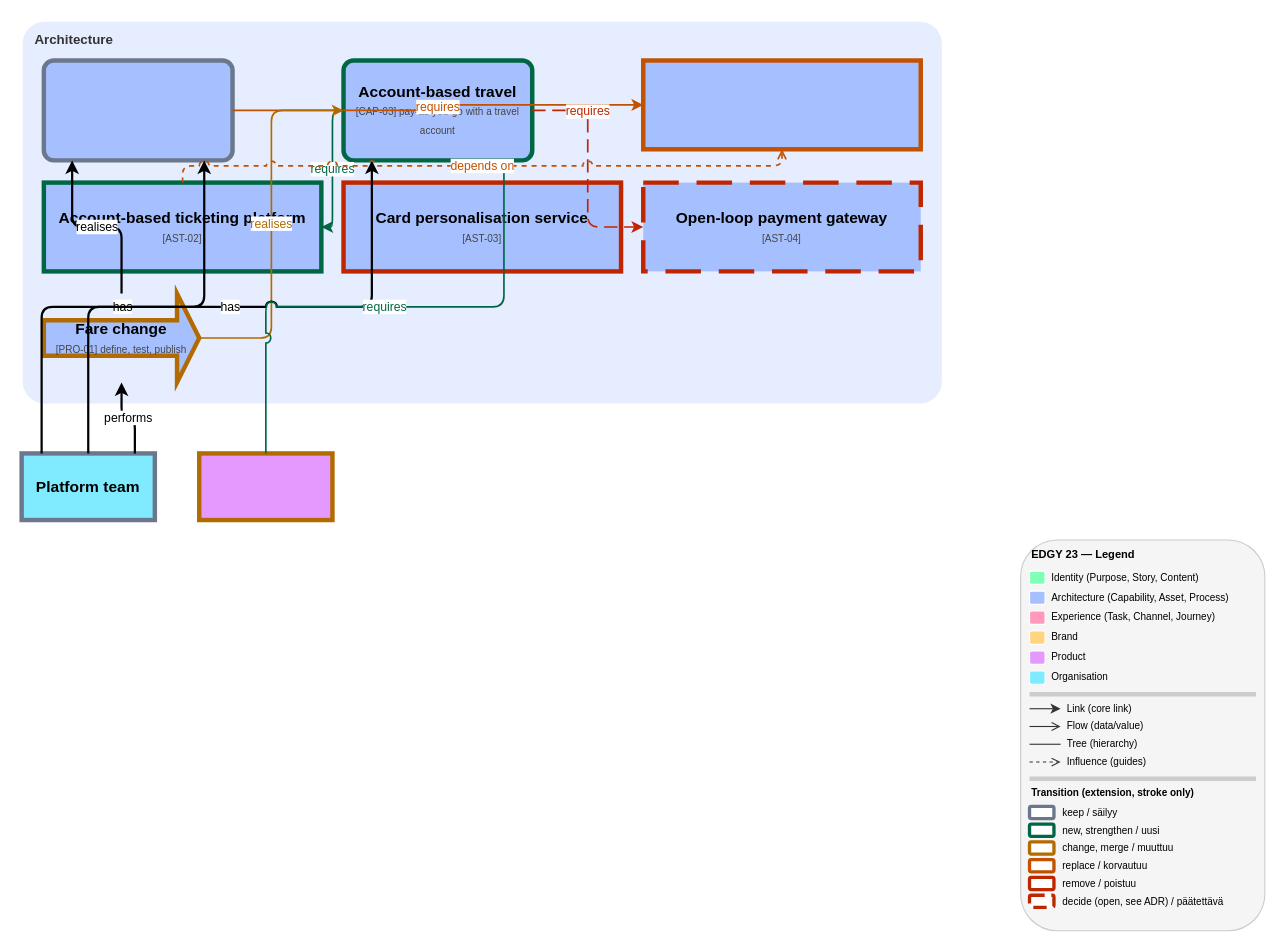
This 1284x950 diagram has some shape labels left out. The centre of each missing label's shape, as x and y in pixels:
"Acme app" belongs at (x=265, y=486).
"Legacy fare engine [AST-01]" belongs at (x=781, y=104).
"Ticketing [CAP-05] sell and validate fares" belongs at (x=137, y=110).
